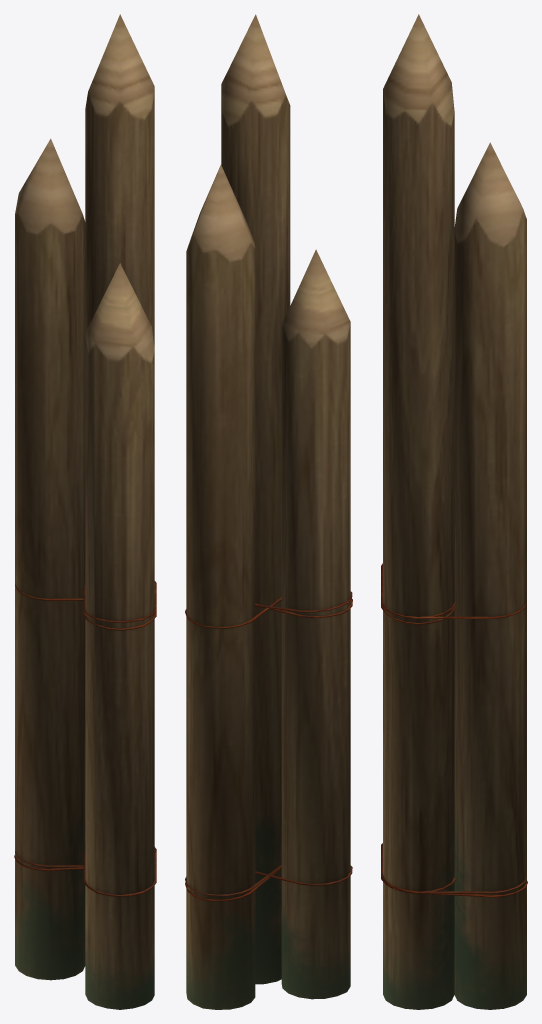
Rendered from sb_obj_outdoor015_WoodWall01e.fbx.
The picture shows the model from 3 angles, left to right: view 1: azimuth 90°, elevation 25°; view 2: azimuth 150°, elevation 25°; view 3: azimuth 270°, elevation 25°; orthographic projection. The views are drawn at different scales.
Parts seen in each view (by area): view 1: sb_obj_outdoor015_WoodWall01e, wire_01e; view 2: sb_obj_outdoor015_WoodWall01e, wire_01e; view 3: sb_obj_outdoor015_WoodWall01e, wire_01e.
Boxes of the visible parts, x1,y1,x2,y2 form: sb_obj_outdoor015_WoodWall01e: [15, 14, 154, 1009]; wire_01e: [14, 581, 156, 896]; sb_obj_outdoor015_WoodWall01e: [186, 14, 350, 1009]; wire_01e: [185, 591, 352, 901]; sb_obj_outdoor015_WoodWall01e: [383, 14, 526, 1009]; wire_01e: [381, 563, 527, 897].
Size of the model in its own units: 0.6837 by 5 by 0.6779.
